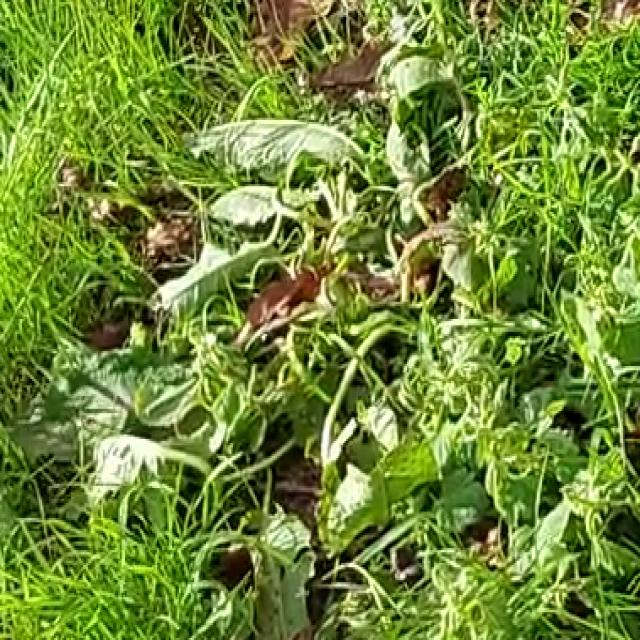organic waste: (147, 24, 483, 308), (40, 300, 272, 560)
